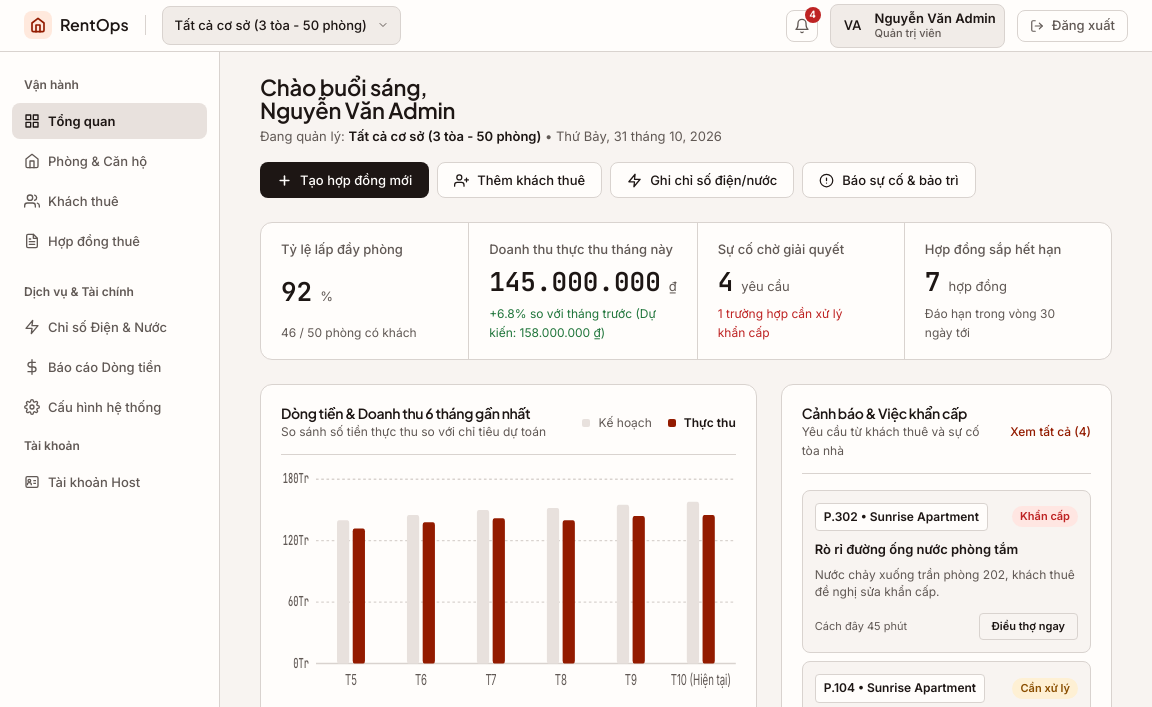
Test case: UC05 App integration › hides the change-password action while editing a profile
Click the button with aria-label "Xem hồ sơ cá nhân của". click: (917, 26)
box: [830, 4, 1005, 48]
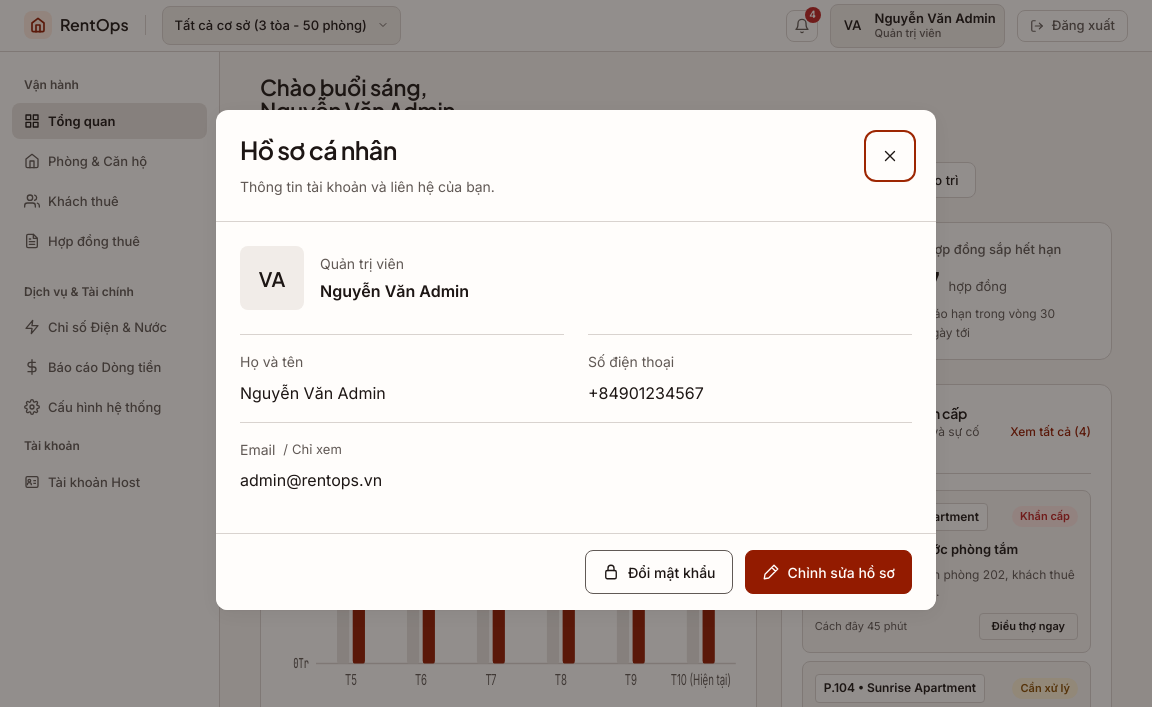
Click the button "Đổi mật khẩu". click: (659, 572)
box: [585, 550, 732, 594]
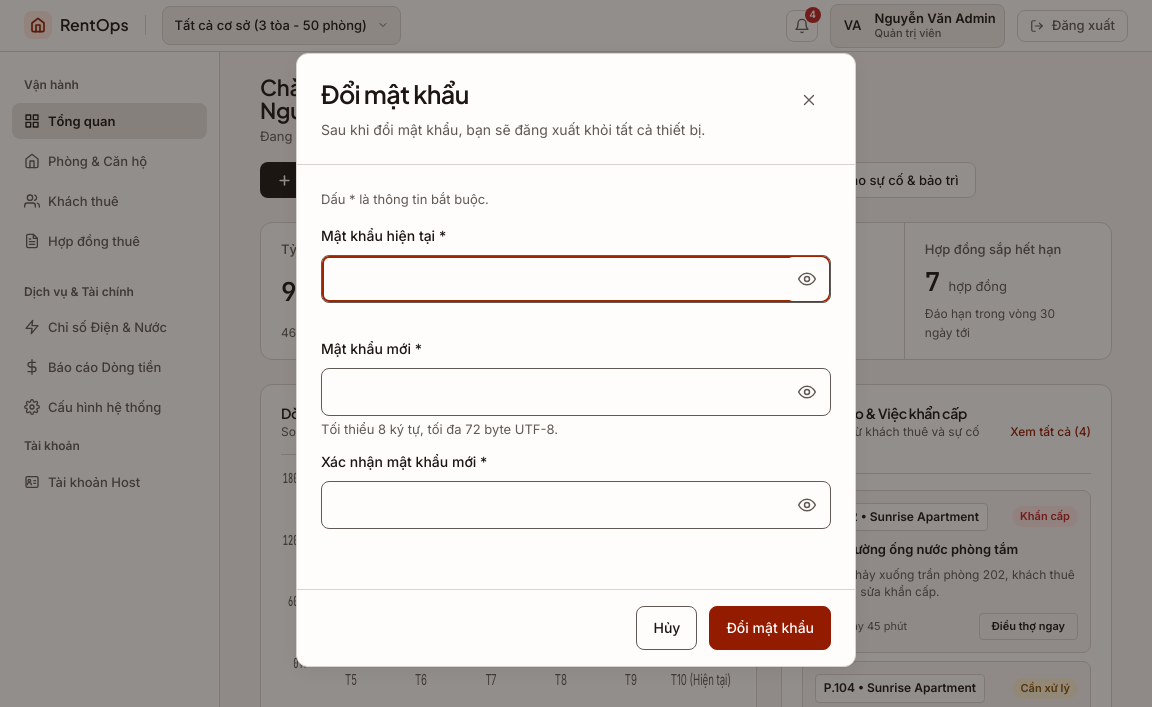
Click the button "Hủy". click: (667, 628)
box: [636, 606, 697, 650]
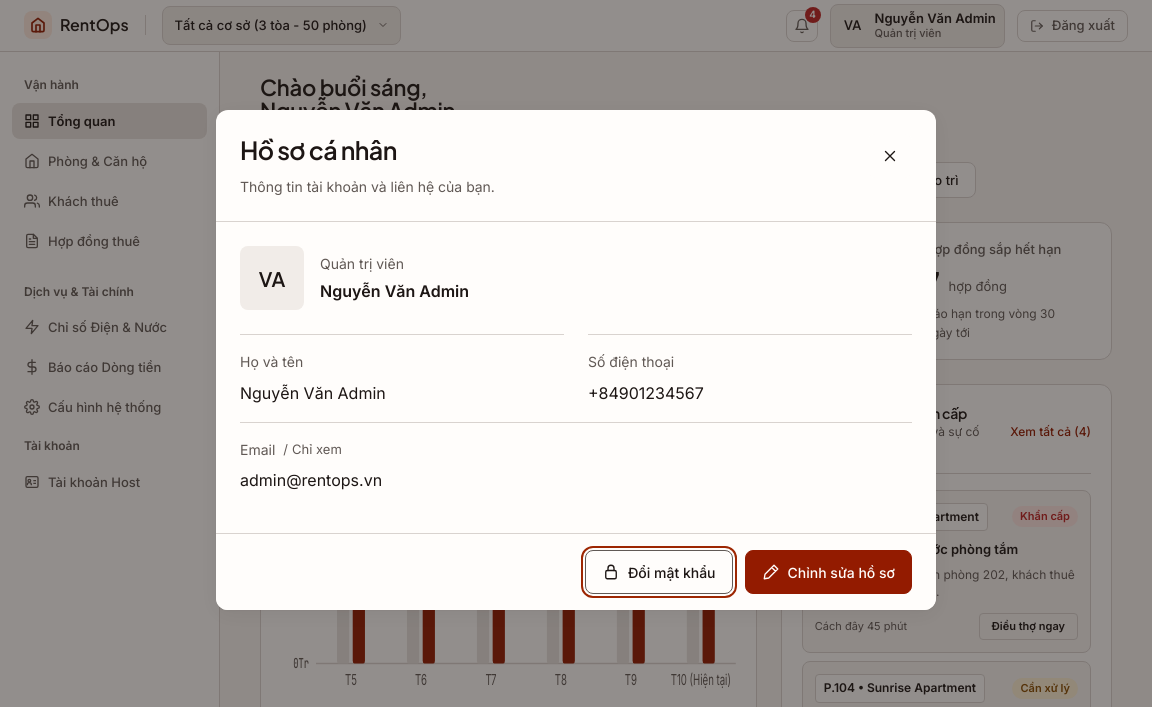
Click the button "Chỉnh sửa hồ sơ". click: (828, 572)
box: [744, 550, 912, 594]
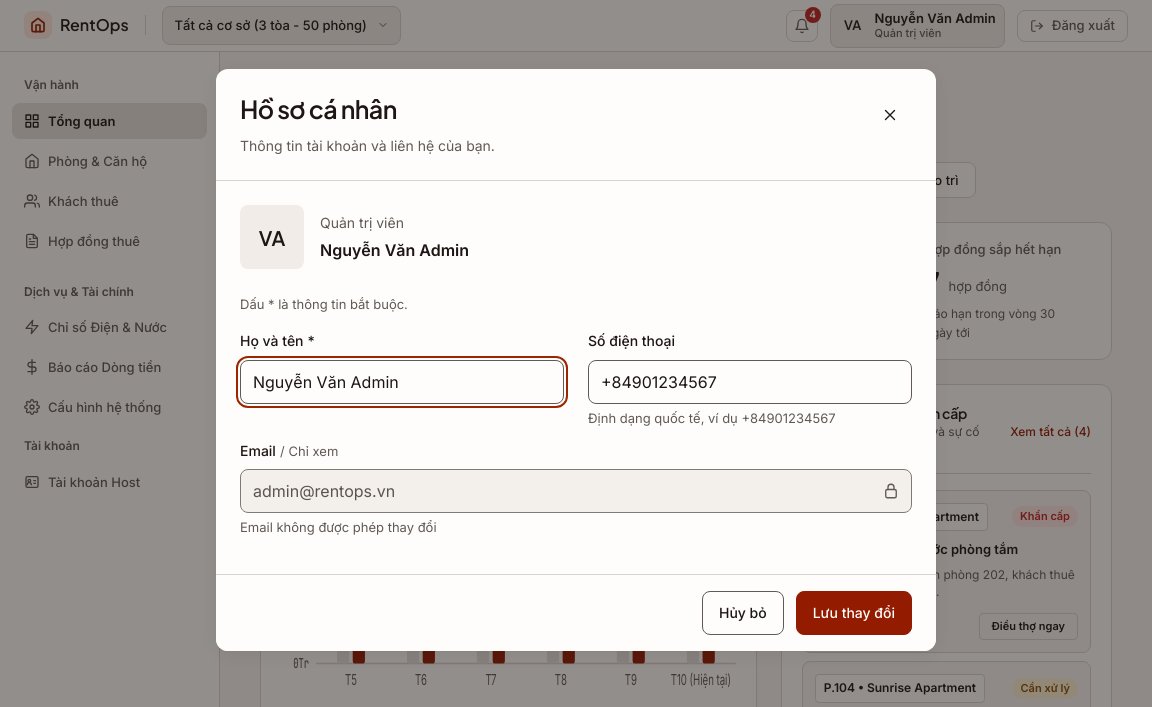
expect the button "Đổi mật khẩu" is gone: met
